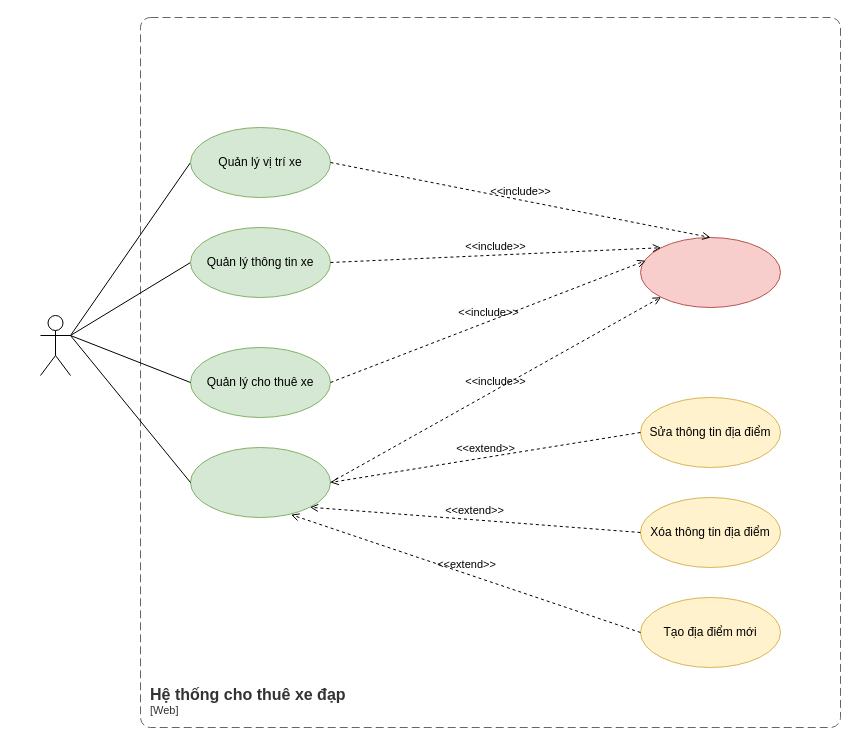
Some shapes in this 858 by 745 pixel diagram are drawn without their labels. The shapes that lost their labels are listed below. From the top down, each one's box as (x1, y1, x2, y2) in pixels, then its label:
(640, 236, 780, 308): Đăng nhập
(40, 314, 70, 376): Người quản trị
(190, 446, 330, 518): Quản lý địa điểm đặt xe
